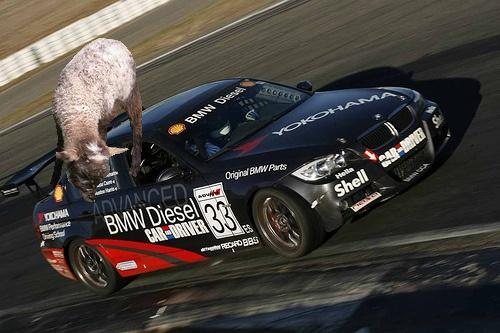tampered: (51, 39, 142, 202)
